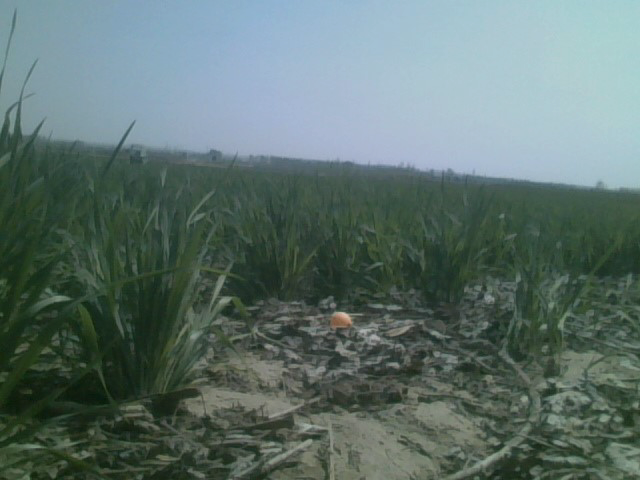ball: (327, 310, 354, 337)
